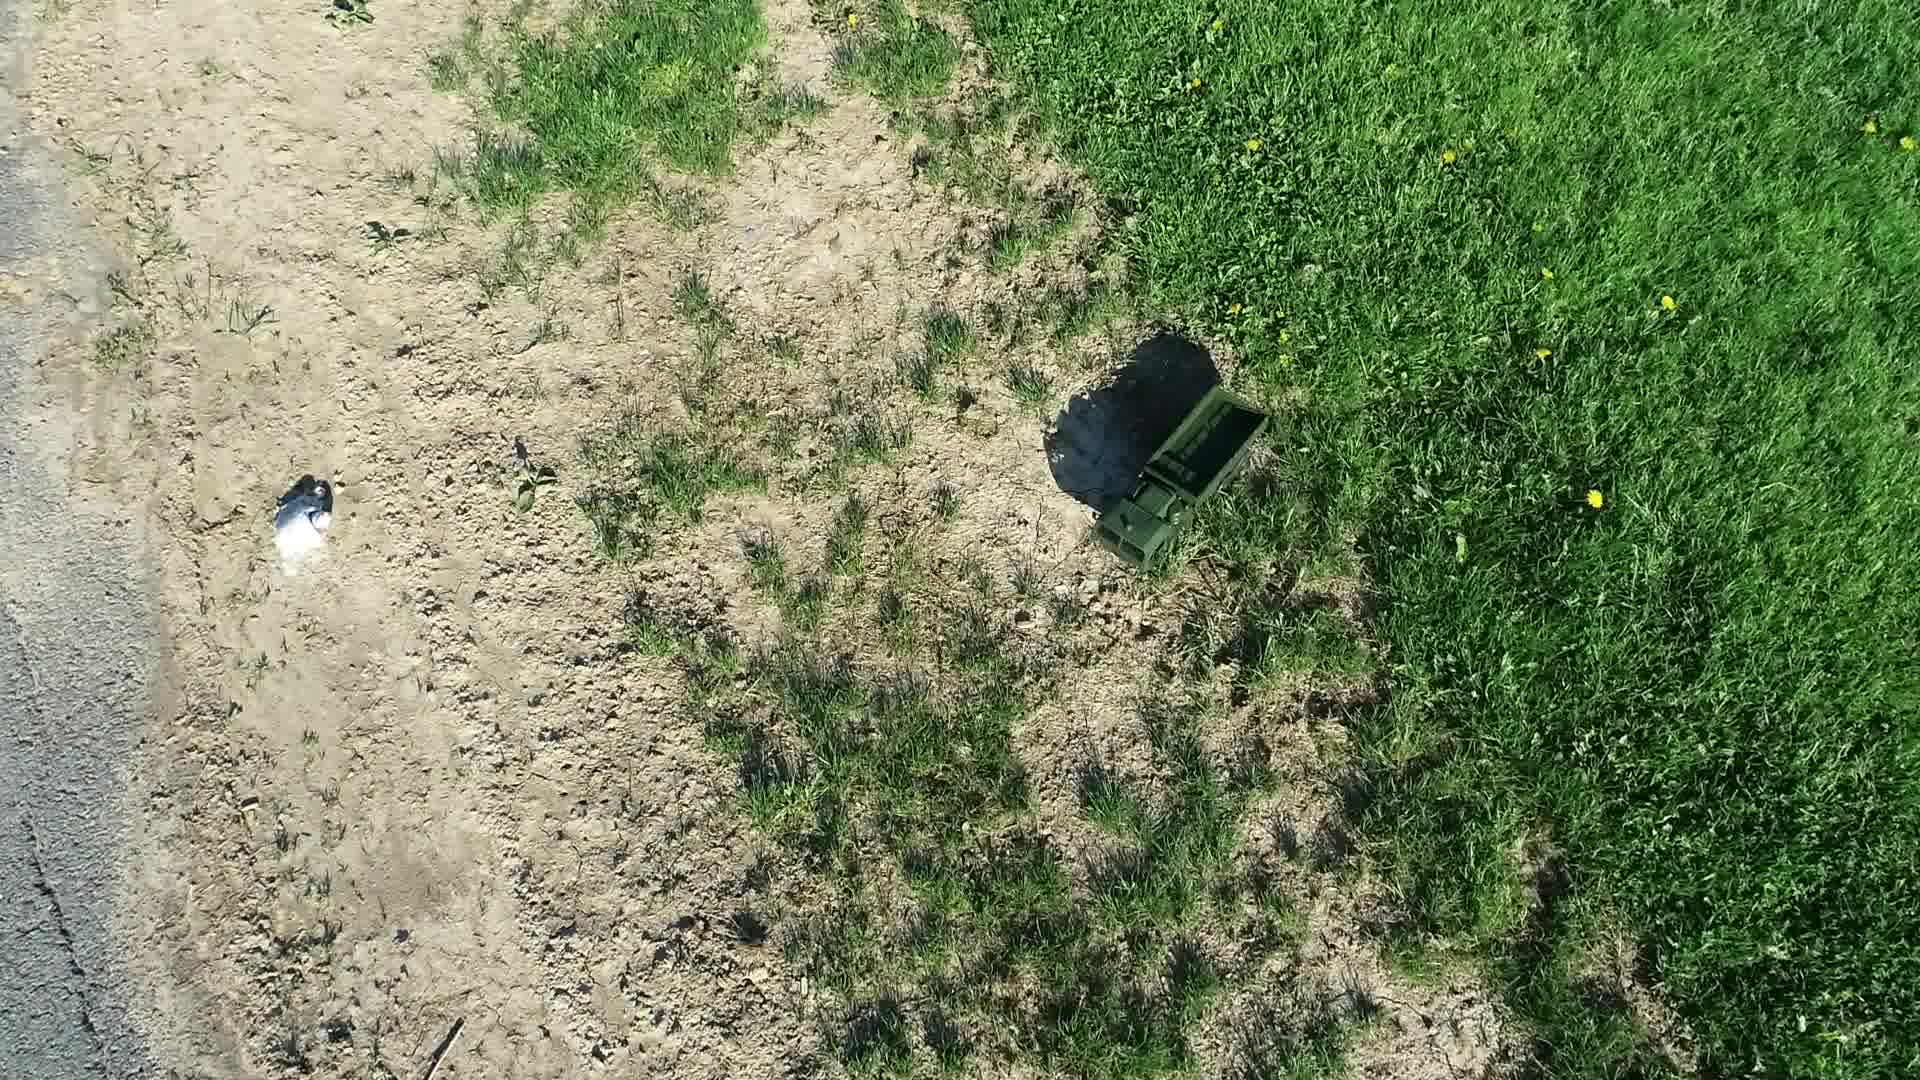transporter9: (1072, 380, 1305, 583)
